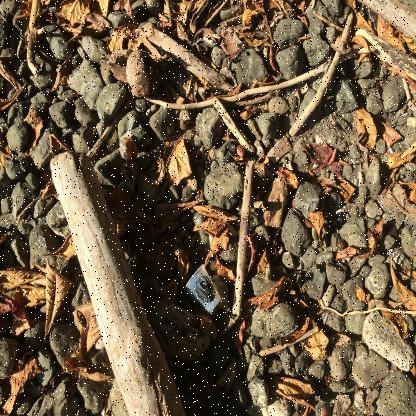cardboard: (185, 263, 221, 313)
